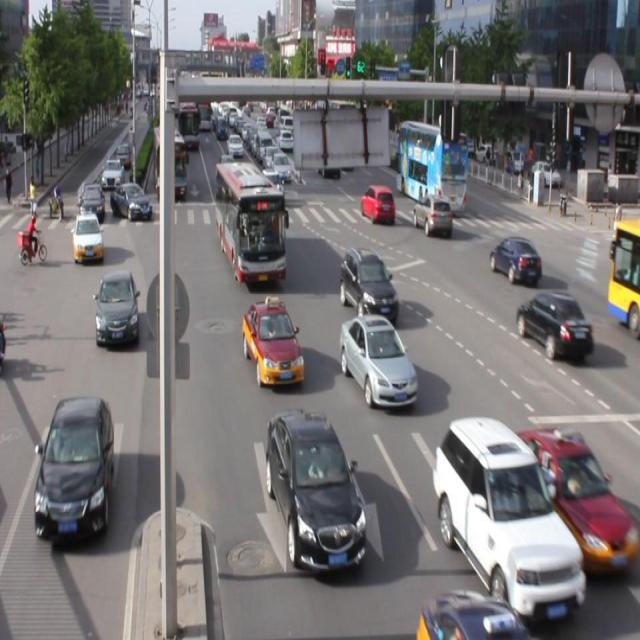car: (433, 412, 585, 614), (514, 425, 630, 575), (266, 406, 366, 566), (34, 392, 115, 540), (338, 312, 417, 405), (514, 287, 593, 359), (241, 295, 304, 383), (340, 247, 398, 321), (95, 268, 139, 346), (488, 234, 542, 282), (412, 191, 452, 234)
van: (215, 160, 286, 280), (604, 218, 640, 330)
